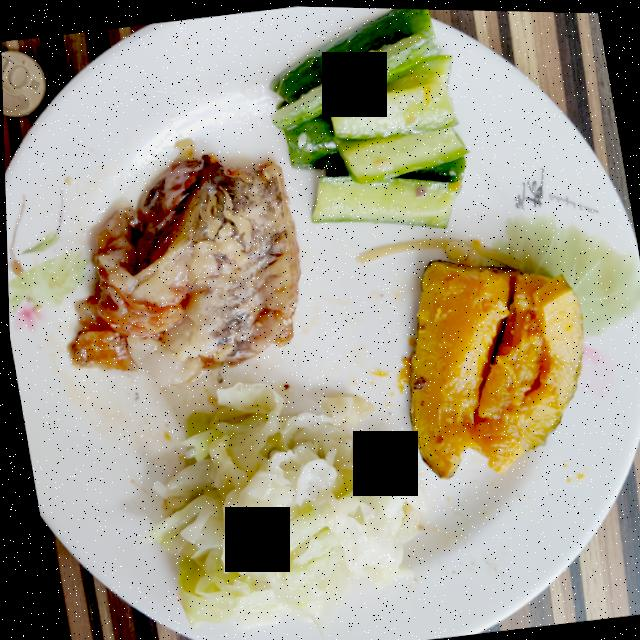Kabayaki sea bream fillet: (66, 153, 298, 385)
cabbage: (139, 382, 423, 633)
coin: (1, 51, 45, 117)
cucumber: (270, 7, 466, 226)
pumpkin: (407, 259, 581, 477)
